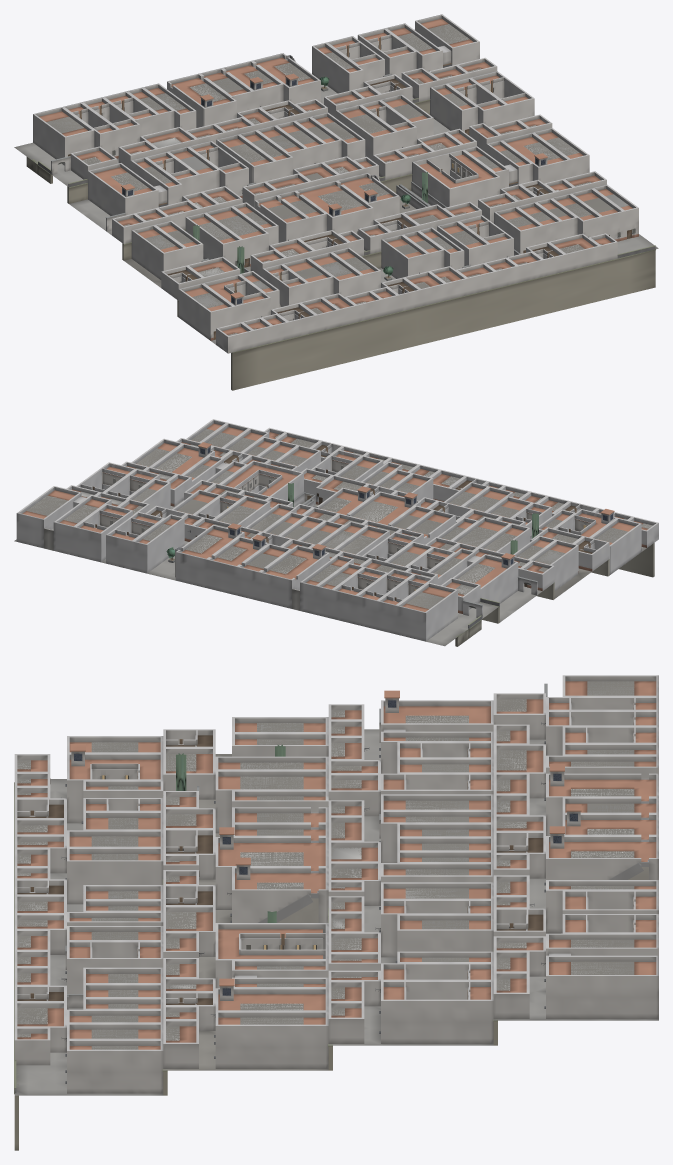
The model's file is judiaria_lo.glb.
The picture shows the model from 3 angles, top to bottom: view 1: azimuth 30°, elevation 25°; view 2: azimuth 150°, elevation 25°; view 3: azimuth 270°, elevation 25°; orthographic projection. The views are drawn at different scales.
Visible parts, largest first — view 1: judiaria_south_1, judiaria_2_corral, judiaria_3_n_65, judiaria_4_n_99, judiaria_2_n_43, judiaria_4_n_105, judiaria_1_n_1, judiaria_2_n_36, judiaria_4_n_113, judiaria_4_n_108, judiaria_1_n_2, judiaria_2_n_47 (+96 smaller); view 2: judiaria_4_n_99, judiaria_4_n_105, judiaria_4_n_108, judiaria_4_n_113, judiaria_3_n_65, judiaria_2_corral, judiaria_4_n_109, judiaria_4_n_107, judiaria_4_n_111, judiaria_4_n_110, judiaria_1_n_1, judiaria_4_n_112 (+68 smaller); view 3: judiaria_3_n_81, judiaria_4_n_113, judiaria_2_n_48, judiaria_1_n_18, judiaria_2_corral, judiaria_4_n_108, judiaria_2_n_44, judiaria_2_n_43, judiaria_1_n_7, judiaria_3_n_65, judiaria_3_n_78, judiaria_1_n_2 (+106 smaller).
Boxes of the visible parts, bbox=[...] form: judiaria_south_1: bbox=[231, 249, 655, 390]; judiaria_2_corral: bbox=[412, 149, 500, 206]; judiaria_3_n_65: bbox=[88, 163, 167, 215]; judiaria_4_n_99: bbox=[33, 107, 94, 165]; judiaria_2_n_43: bbox=[295, 180, 373, 234]; judiaria_4_n_105: bbox=[167, 73, 236, 127]; judiaria_1_n_1: bbox=[178, 283, 234, 340]; judiaria_2_n_36: bbox=[131, 225, 185, 279]; judiaria_4_n_113: bbox=[415, 14, 479, 67]; judiaria_4_n_108: bbox=[252, 53, 320, 103]; judiaria_1_n_2: bbox=[202, 274, 270, 323]; judiaria_2_n_47: bbox=[501, 132, 569, 183]; judiaria_4_n_99: bbox=[396, 582, 457, 641]; judiaria_4_n_105: bbox=[259, 544, 329, 608]; judiaria_4_n_108: bbox=[175, 523, 244, 587]; judiaria_4_n_113: bbox=[16, 486, 81, 548]; judiaria_3_n_65: bbox=[453, 553, 518, 603]; judiaria_2_corral: bbox=[220, 460, 303, 500]; judiaria_4_n_109: bbox=[132, 514, 184, 573]; judiaria_4_n_107: bbox=[207, 534, 268, 595]; judiaria_4_n_111: bbox=[74, 504, 132, 562]; judiaria_4_n_110: bbox=[106, 511, 164, 569]; judiaria_1_n_1: bbox=[591, 518, 641, 574]; judiaria_4_n_112: bbox=[53, 495, 111, 555]; judiaria_3_n_81: bbox=[379, 980, 493, 1043]; judiaria_4_n_113: bbox=[544, 955, 658, 1018]; judiaria_2_n_48: bbox=[214, 1011, 328, 1068]; judiaria_1_n_18: bbox=[65, 1040, 163, 1093]; judiaria_2_corral: bbox=[215, 923, 328, 988]; judiaria_4_n_108: bbox=[544, 826, 658, 892]; judiaria_2_n_44: bbox=[230, 857, 328, 922]; judiaria_2_n_43: bbox=[215, 827, 328, 909]; judiaria_1_n_7: bbox=[67, 848, 163, 904]; judiaria_3_n_65: bbox=[379, 690, 493, 757]; judiaria_3_n_78: bbox=[395, 914, 493, 963]; judiaria_1_n_2: bbox=[67, 744, 163, 823].
Size of the model in its own units: 136 by 37.3 by 117.
